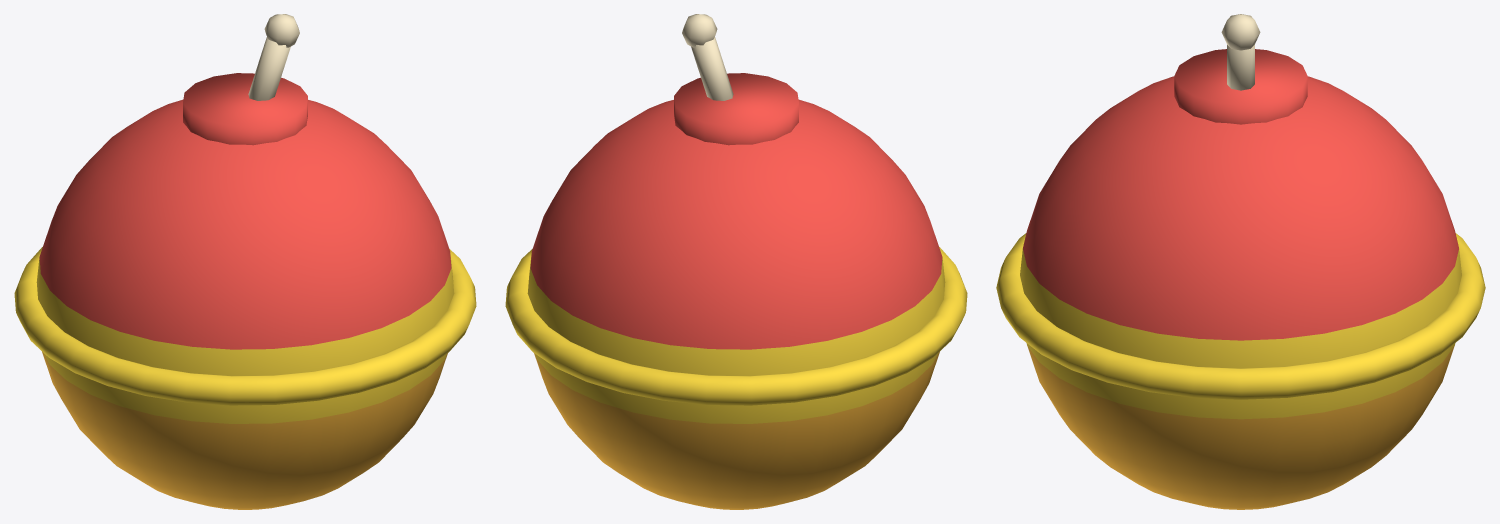
File: Bomb_Square5x5.fbx
3 views of the same model, side by side, from view 1: azimuth 30°, elevation 25°; view 2: azimuth 150°, elevation 25°; view 3: azimuth 270°, elevation 25° (orthographic). The views are drawn at different scales.
Visible parts, largest first — view 1: Bomb_Square5x5; view 2: Bomb_Square5x5; view 3: Bomb_Square5x5.
Boxes of the visible parts, box(x1,y1,x2,y2) form: Bomb_Square5x5: box(14, 14, 476, 509); Bomb_Square5x5: box(505, 14, 967, 509); Bomb_Square5x5: box(996, 14, 1485, 509).
Bounding box in the file's own units: 0.88 × 0.9796 × 0.88.
